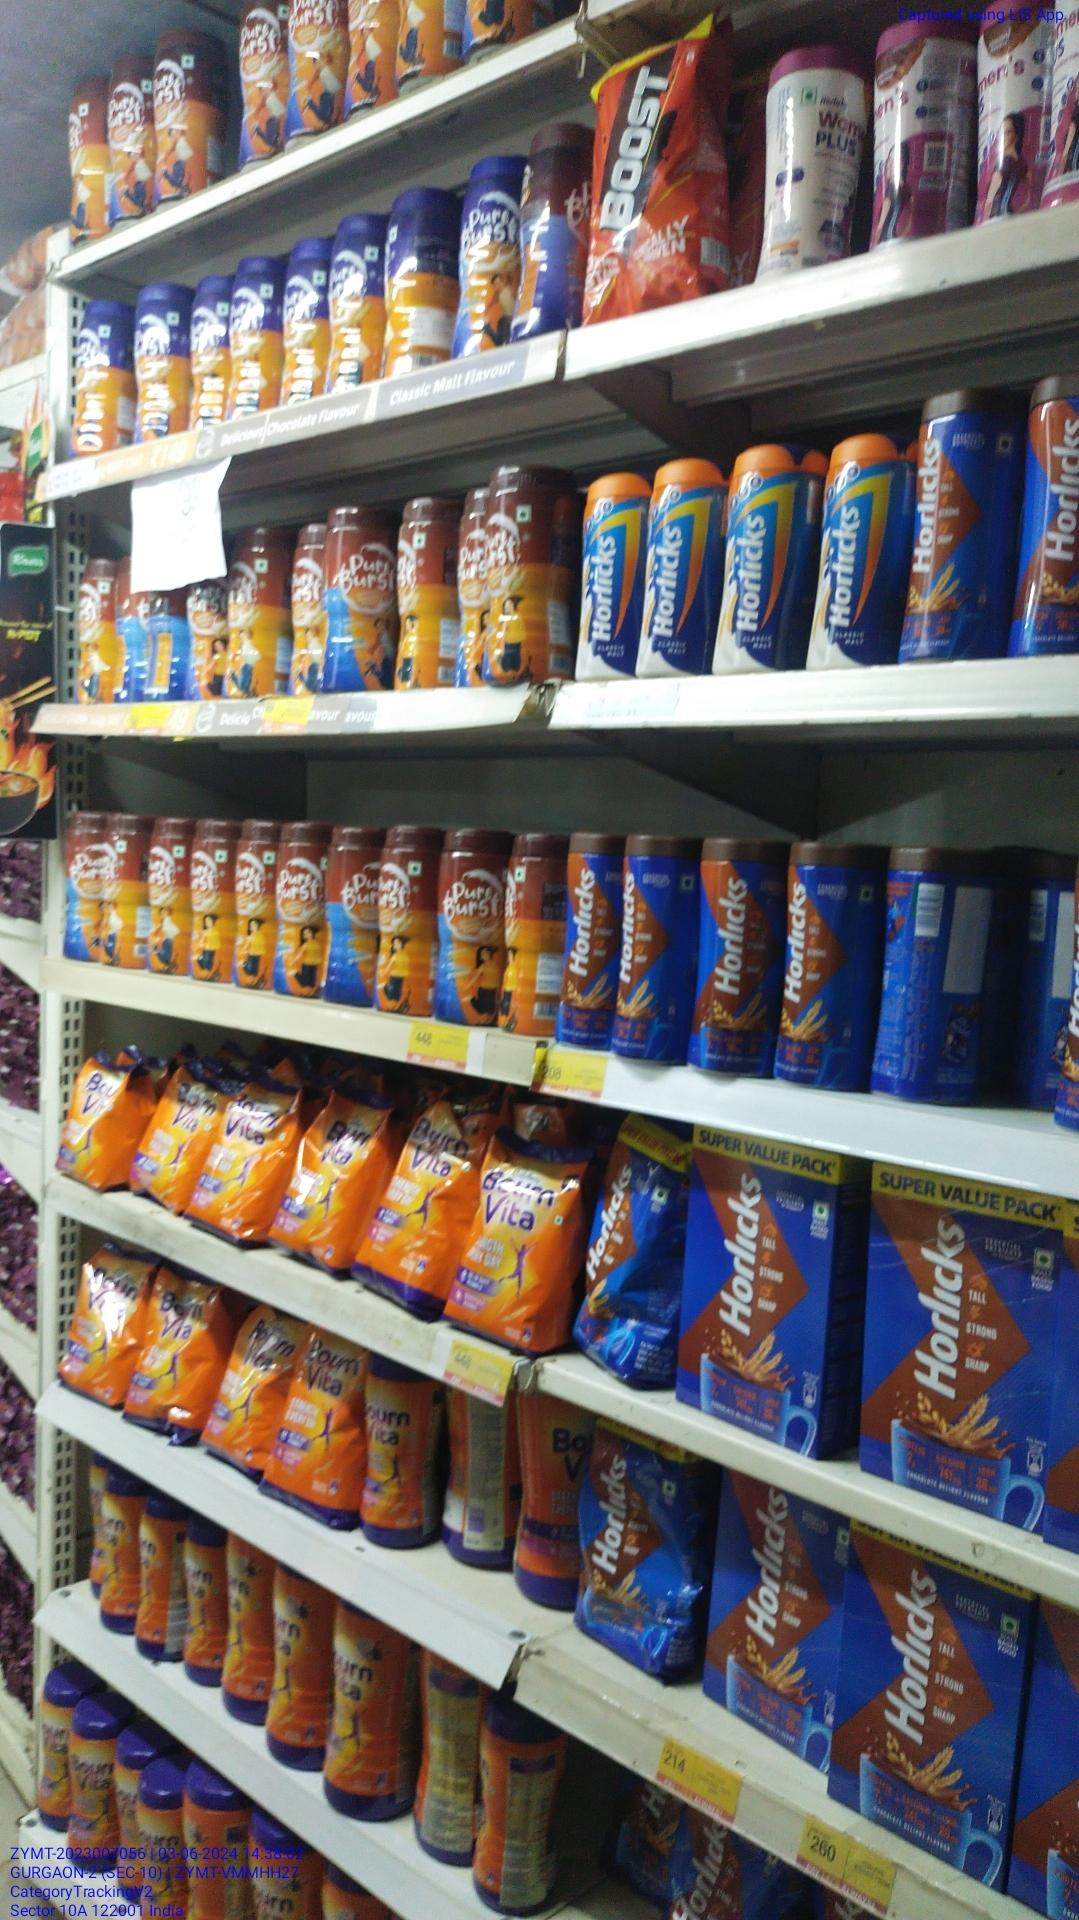BOURN_VITA_500_G_JAR: (322, 1610, 400, 1824), (371, 1353, 431, 1555), (70, 1693, 112, 1878), (38, 1658, 69, 1830)
BOURN_VITA_500_G_POUCH: (281, 1340, 367, 1523)
BOURN_VITA_750_G_POUCH: (467, 1146, 576, 1362), (373, 1108, 458, 1320), (288, 1089, 367, 1267)
HORLICK_CHOCOLATE_1_KG_PACK: (868, 1172, 1050, 1523), (682, 1137, 835, 1456)
HORLICK_CHOCOLATE_500_G_JAR: (908, 393, 1017, 659), (778, 829, 859, 1091), (611, 827, 691, 1069), (699, 832, 773, 1079), (1022, 363, 1079, 650), (561, 837, 605, 1047)
HORLICK_CHOCOLATE_500_G_PACK: (844, 1538, 1014, 1861), (708, 1491, 838, 1746)
HORLICK_CHOCOLATE_750_G_POUCH: (579, 1425, 678, 1680)
HORLICK_CLASSIC_MALT_500_G_JAR: (807, 430, 898, 666), (720, 444, 798, 675), (642, 456, 712, 676), (578, 463, 636, 684)
